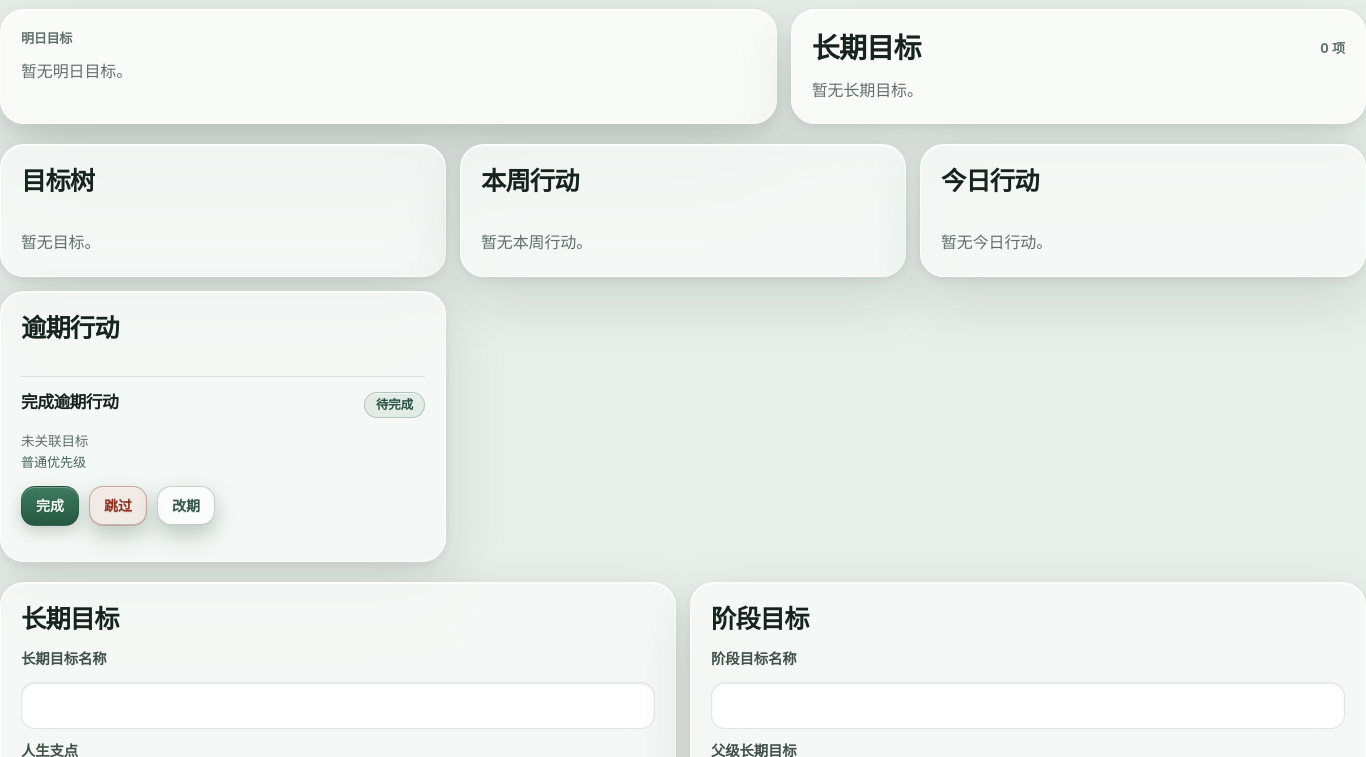
Scenario: PlanningWorkspace › confirms an overdue completion that disappears and unlocks the next mutation
Click the button with aria-label "完成：完成逾期行动". click: (50,506)
box: [21,486,79,526]
(page scrolled)
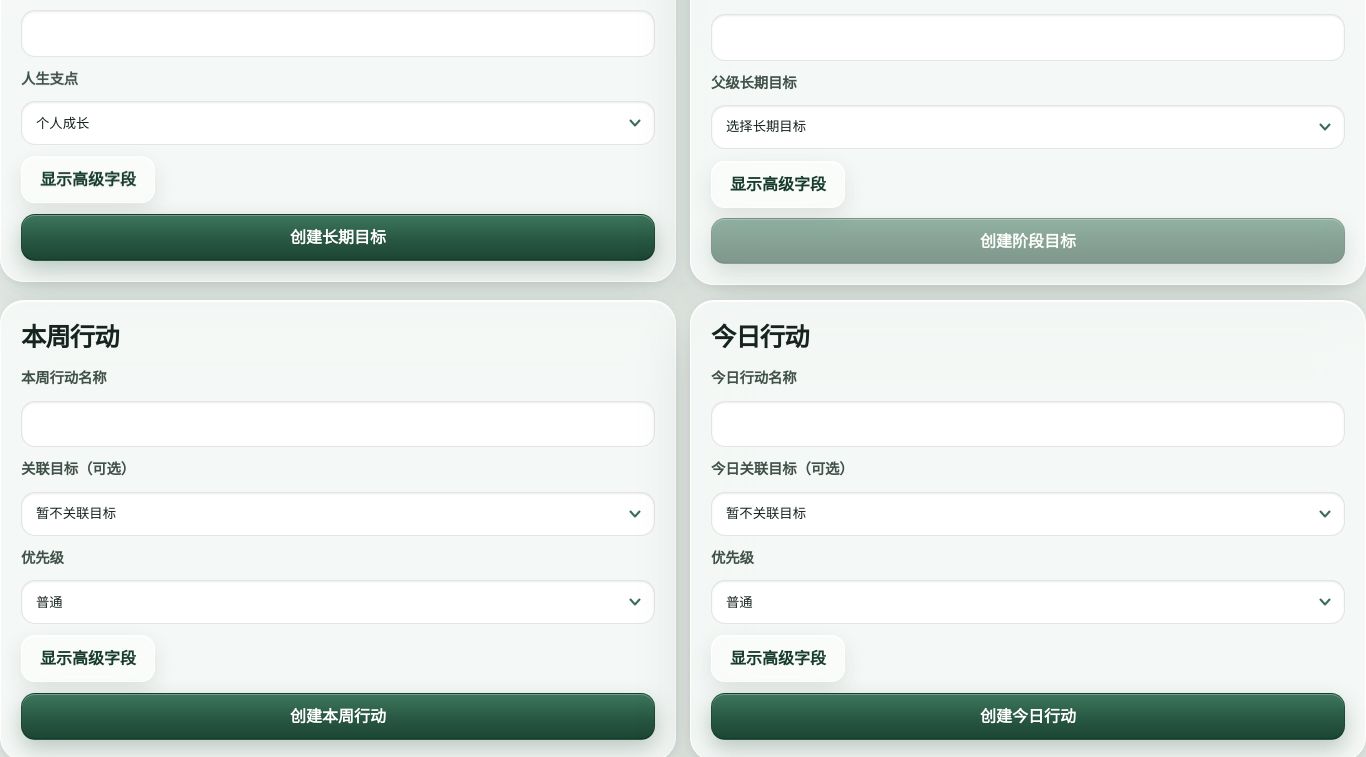
Type "完成后继续规划" into the field labelled "本周行动名称". click: (338,424)
box: [21,400,655,447]
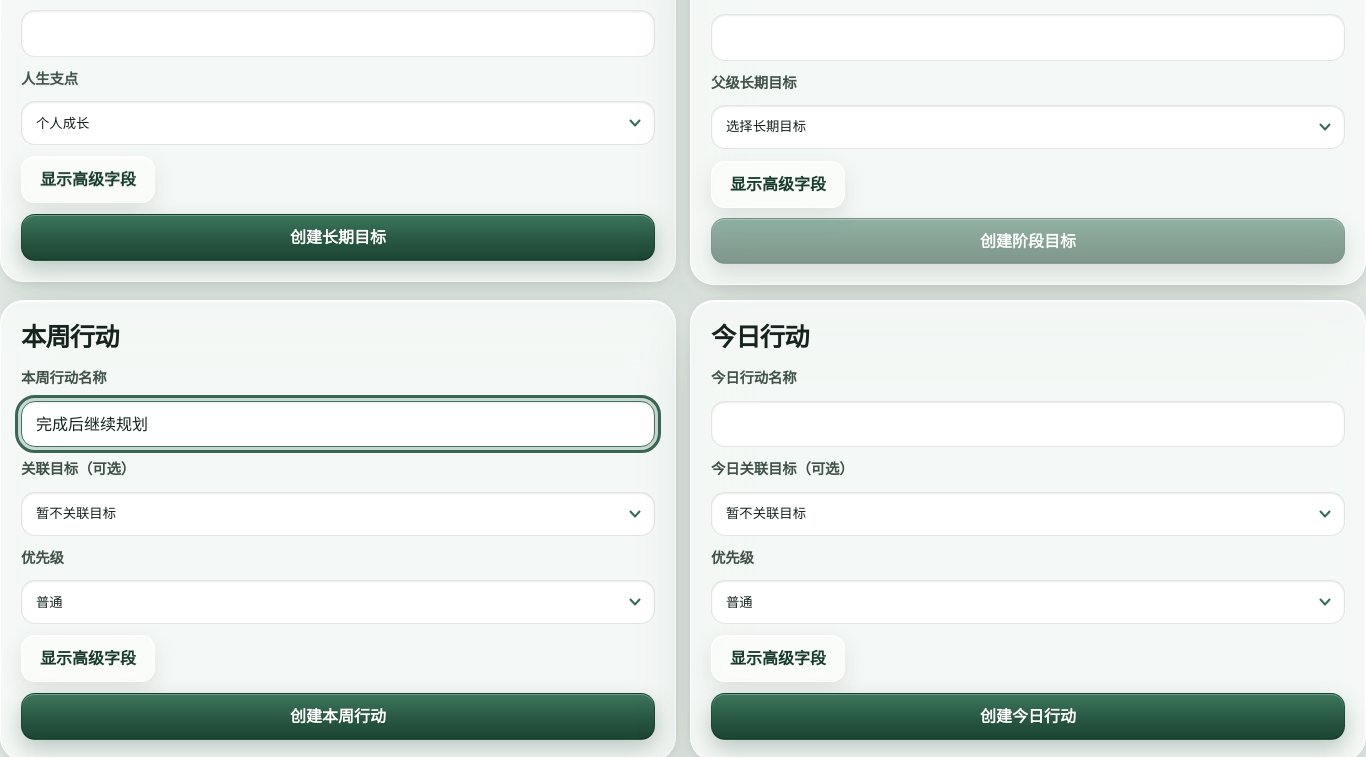
Click the button "创建本周行动". click: (338,716)
box: [21,693,655,740]
(page scrolled)
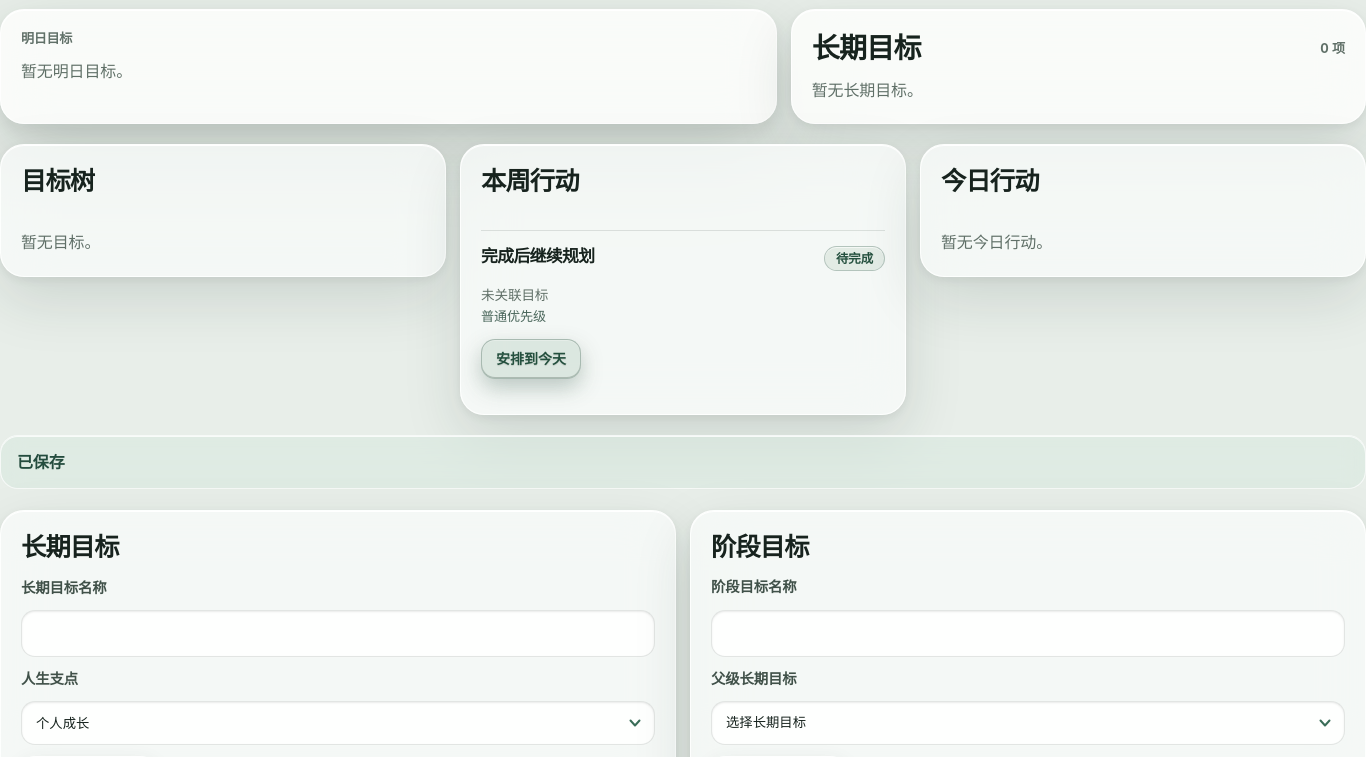
Check: the heading "完成后继续规划" is shown, box [481,246,594,268]
